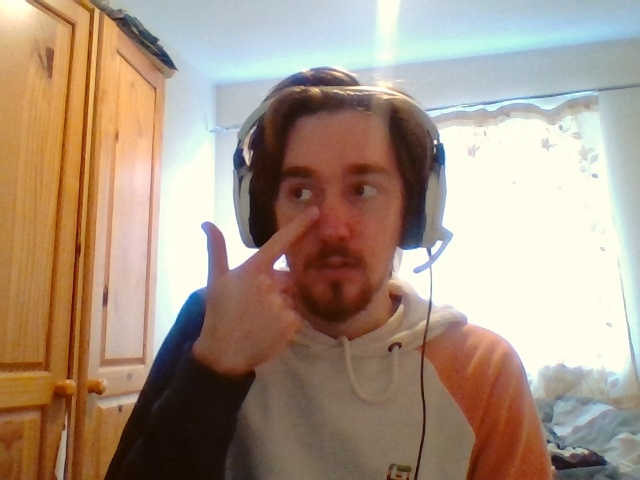luck: (201, 205, 319, 358)
